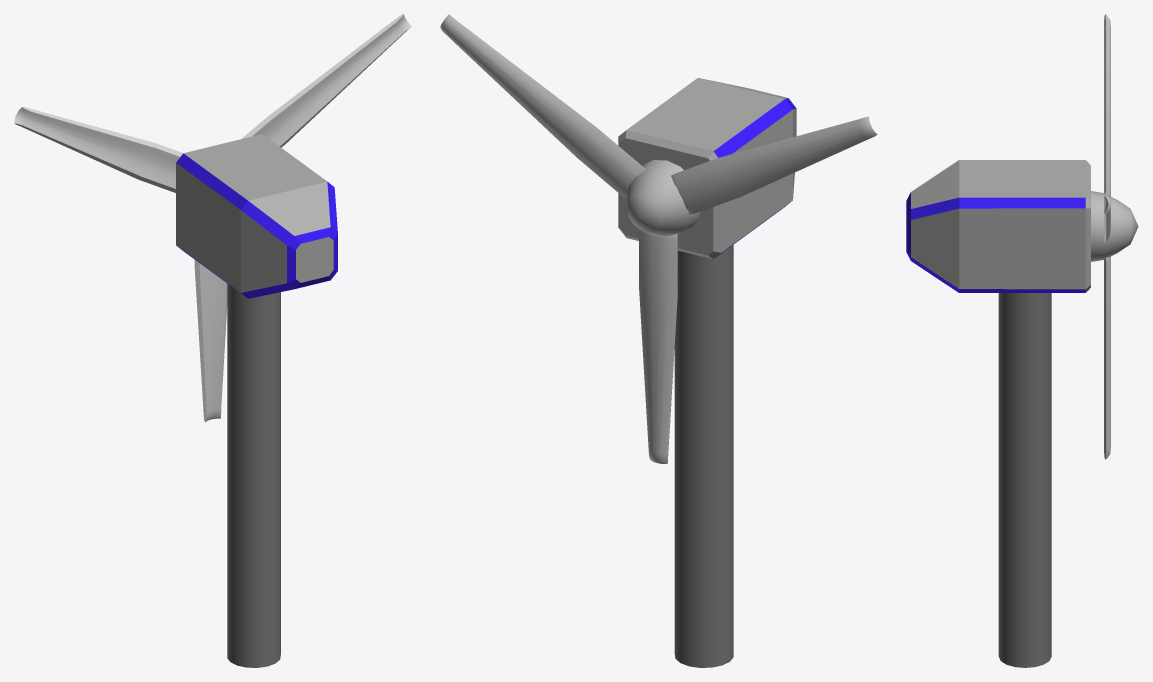
File: Power_E.fbx
3 renders of one model, left to right at view 1: azimuth 30°, elevation 25°; view 2: azimuth 150°, elevation 25°; view 3: azimuth 270°, elevation 25°, orthographic. The views are drawn at different scales.
Parts seen in each view (by area): view 1: Cube, Cylinder, NurbsCurve.002, NurbsCurve.003, NurbsCurve.001; view 2: Cylinder, Cube, NurbsCurve.002, NurbsCurve.003, NurbsCurve.001, Cone; view 3: Cube, Cylinder, Cone, NurbsCurve.001, NurbsCurve.002.
Boxes of the visible parts, box(x1,y1,x2,y2) form: Cube: box(176, 134, 337, 298); Cylinder: box(227, 284, 280, 667); NurbsCurve.002: box(14, 107, 183, 192); NurbsCurve.003: box(242, 14, 411, 147); NurbsCurve.001: box(194, 260, 227, 422); Cylinder: box(674, 245, 733, 667); Cube: box(618, 78, 796, 259); NurbsCurve.002: box(671, 116, 877, 214); NurbsCurve.003: box(440, 14, 645, 198); NurbsCurve.001: box(639, 229, 677, 463); Cone: box(626, 160, 700, 236); Cube: box(906, 160, 1090, 292); Cylinder: box(998, 293, 1051, 667); Cone: box(1091, 191, 1138, 261); NurbsCurve.001: box(1104, 256, 1110, 459); NurbsCurve.002: box(1104, 14, 1110, 196).
Bounding box in the file's own units: 4.24 × 5.77 × 2.2.
